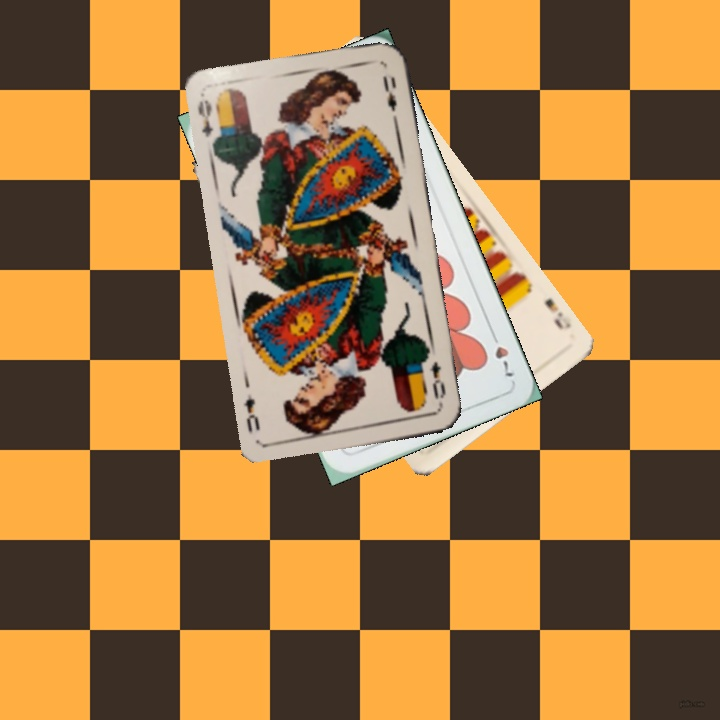E9: (540, 294, 574, 333)
EO: (425, 357, 449, 402), (194, 96, 216, 140)
H7: (486, 326, 518, 380)
